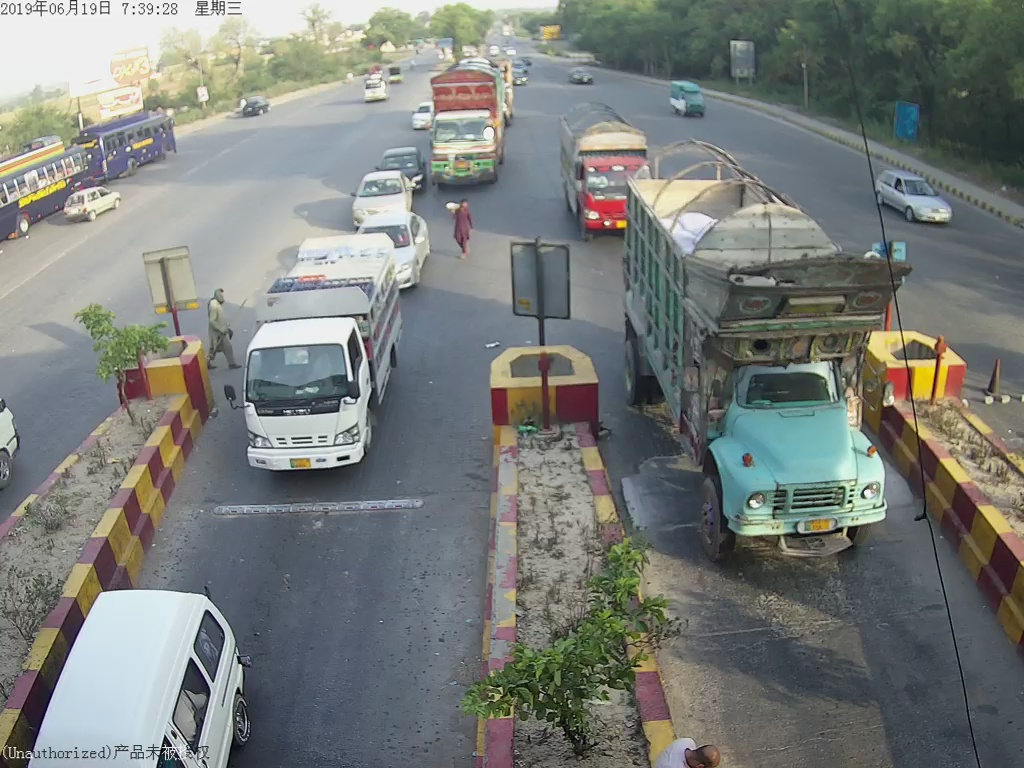Cat-1: (351, 171, 412, 222)
Cat-2: (241, 237, 400, 474)
Cat-4: (624, 139, 900, 568), (424, 71, 504, 184), (567, 129, 621, 237)
